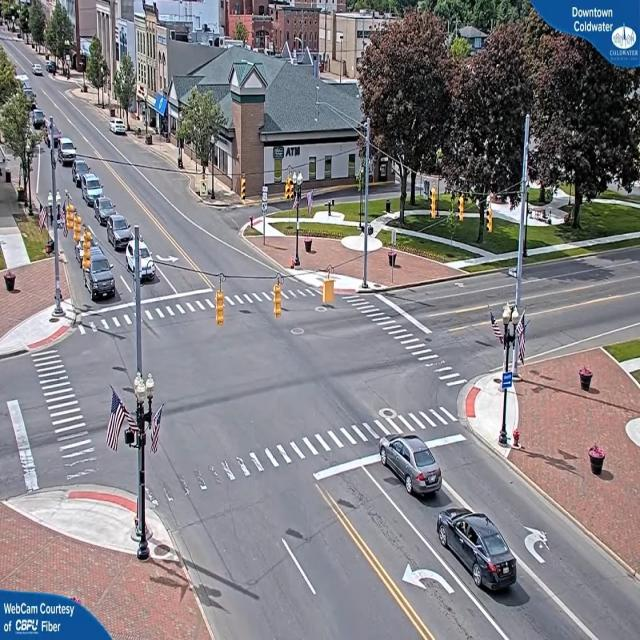car: (436, 509, 520, 594), (378, 434, 443, 501), (85, 254, 119, 303), (107, 216, 135, 250), (95, 197, 116, 220), (60, 137, 76, 164), (110, 120, 128, 136)
